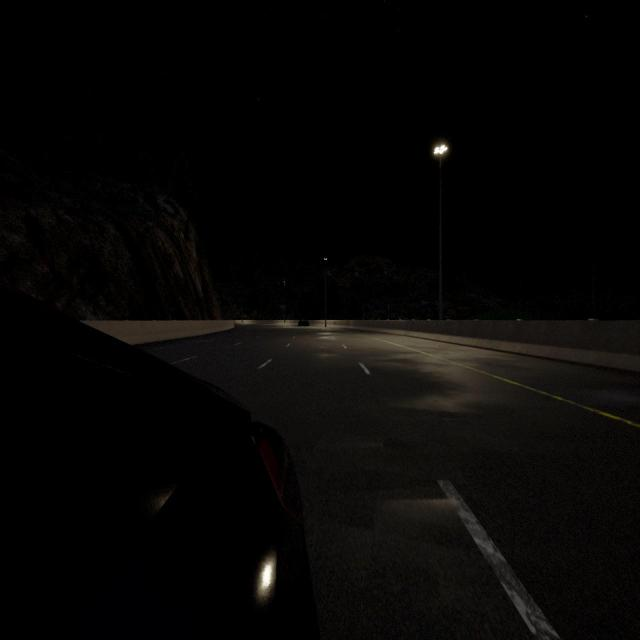Vehicle: (0, 296, 306, 640)
